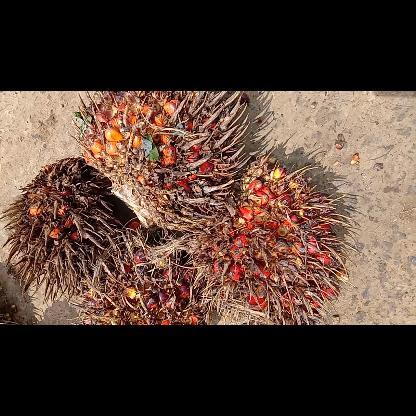Terlalu masak: (190, 146, 366, 324), (68, 90, 256, 233), (0, 151, 130, 306), (77, 228, 214, 324)
